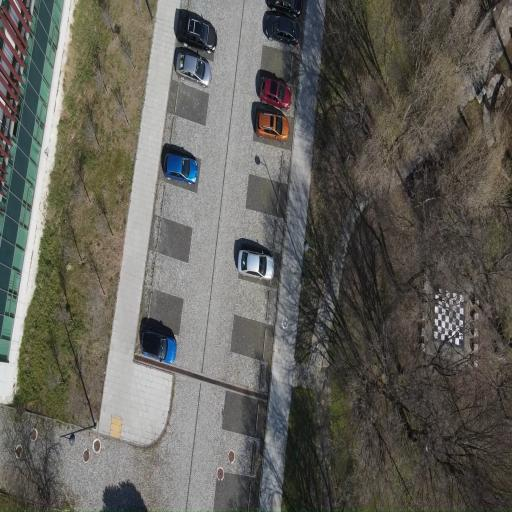car: (176, 10, 215, 53), (174, 49, 210, 87), (140, 330, 175, 363), (263, 13, 299, 44), (237, 250, 273, 280), (163, 152, 197, 183), (255, 111, 288, 141), (259, 78, 290, 109), (266, 0, 301, 16)
